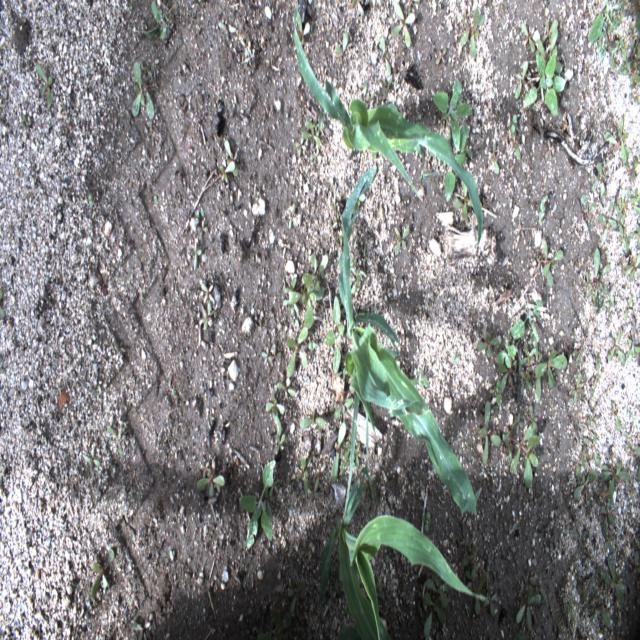crop: (338, 167, 482, 518), (294, 2, 483, 246), (316, 382, 488, 640)
weed: (238, 459, 276, 549), (502, 413, 542, 489), (432, 79, 473, 149), (523, 50, 566, 116), (444, 123, 472, 203), (288, 272, 325, 329), (324, 293, 345, 375), (584, 246, 611, 305), (590, 10, 618, 66), (479, 401, 501, 466), (511, 300, 543, 343), (141, 0, 176, 39), (604, 115, 632, 162), (536, 242, 564, 288), (132, 62, 154, 119), (601, 553, 626, 603), (90, 550, 115, 599), (461, 6, 485, 57), (536, 350, 567, 388), (426, 566, 454, 608), (286, 326, 308, 376), (391, 2, 415, 47), (516, 588, 541, 630), (301, 254, 328, 292), (453, 178, 478, 219), (423, 592, 446, 636), (602, 458, 629, 495), (330, 422, 346, 482), (266, 390, 285, 437), (598, 199, 618, 242), (574, 465, 598, 500), (196, 472, 225, 496), (37, 60, 52, 106), (478, 333, 503, 360), (343, 436, 362, 471), (497, 359, 516, 394), (608, 329, 626, 365), (472, 572, 487, 615), (619, 60, 640, 89), (514, 60, 529, 100), (602, 498, 616, 540), (497, 338, 516, 368), (224, 139, 238, 177), (622, 252, 640, 281), (294, 12, 310, 44), (482, 584, 497, 618), (300, 408, 325, 428), (84, 446, 101, 474), (540, 20, 558, 45), (380, 37, 391, 77), (528, 577, 547, 600), (261, 344, 282, 364), (297, 456, 308, 494), (334, 398, 353, 419), (395, 228, 409, 256), (521, 22, 534, 52), (277, 378, 295, 399), (199, 302, 212, 331), (520, 345, 536, 367), (302, 131, 321, 149), (220, 161, 236, 182), (201, 282, 215, 304), (572, 374, 582, 404), (520, 372, 532, 394), (305, 120, 324, 132), (275, 432, 285, 454), (435, 48, 446, 64), (422, 512, 431, 531), (496, 377, 500, 409)
